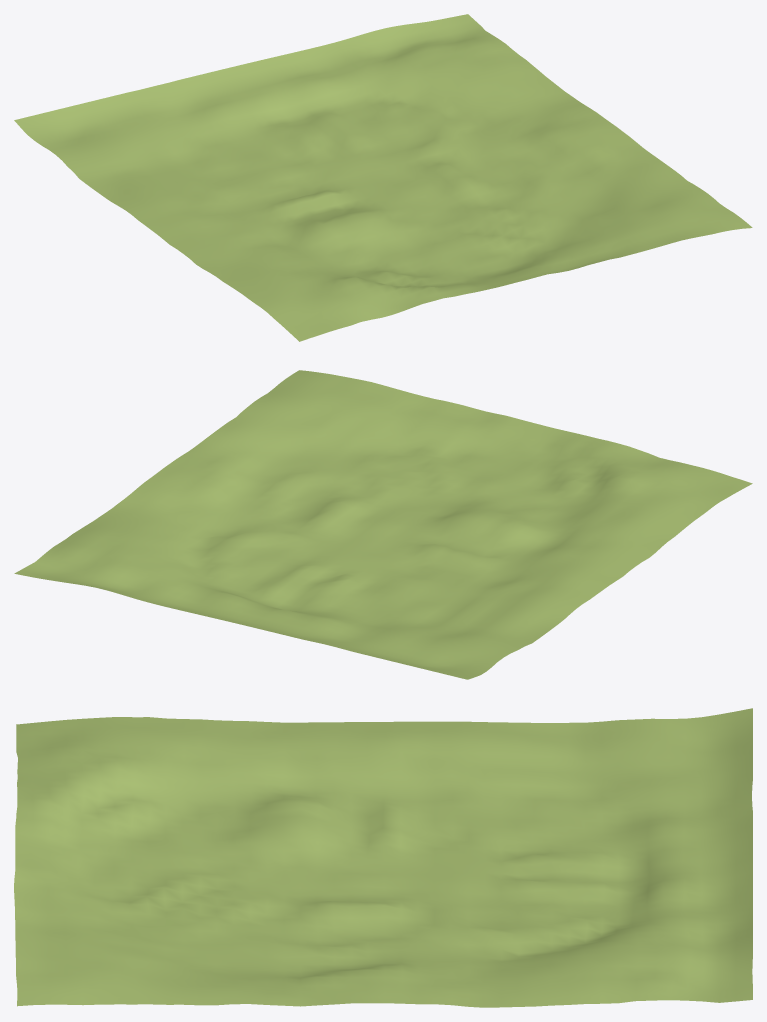
Rendered from RoadTrack.fbx.
3 renders of one model, top to bottom at view 1: azimuth 30°, elevation 25°; view 2: azimuth 150°, elevation 25°; view 3: azimuth 270°, elevation 25°, orthographic. The views are drawn at different scales.
Parts seen in each view (by area): view 1: RoadTrack; view 2: RoadTrack; view 3: RoadTrack.
Boxes of the visible parts, <box> form: RoadTrack: <box>14,14,752,341</box>; RoadTrack: <box>14,370,752,679</box>; RoadTrack: <box>14,708,752,1007</box>.
Size of the model in its own units: 5073 by 227 by 5542.
